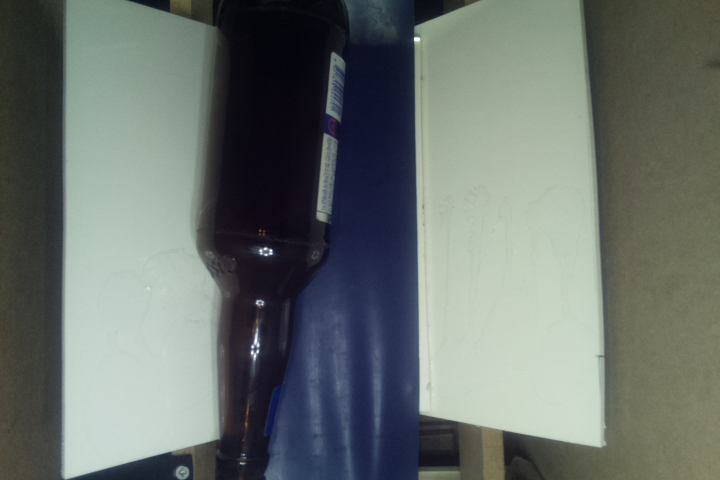makju: (188, 1, 353, 479)
